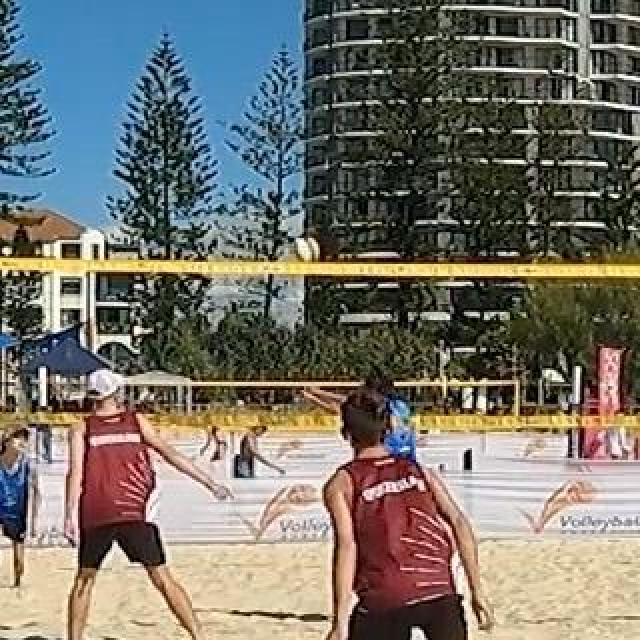volleyball: (291, 236, 321, 264)
